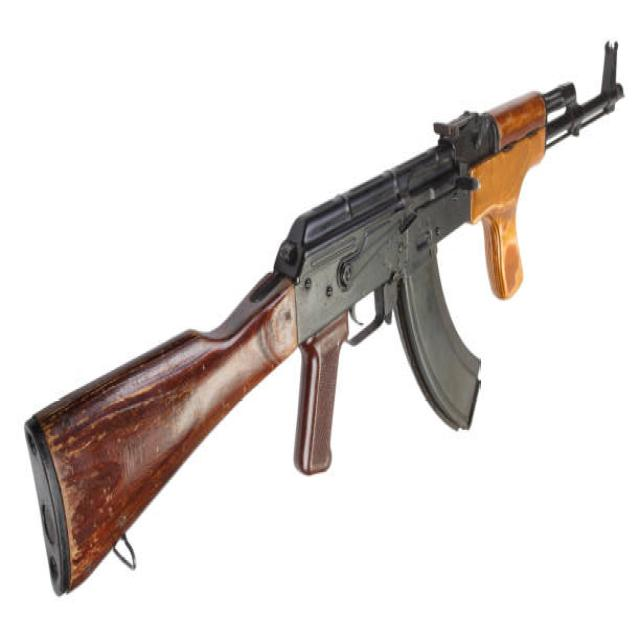rifle: (24, 36, 629, 609)
